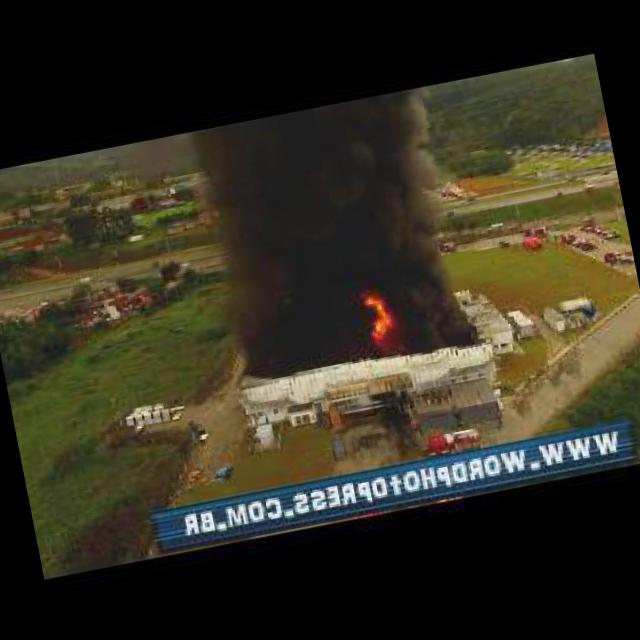fire: (358, 285, 398, 347)
smoke: (180, 88, 470, 390)
